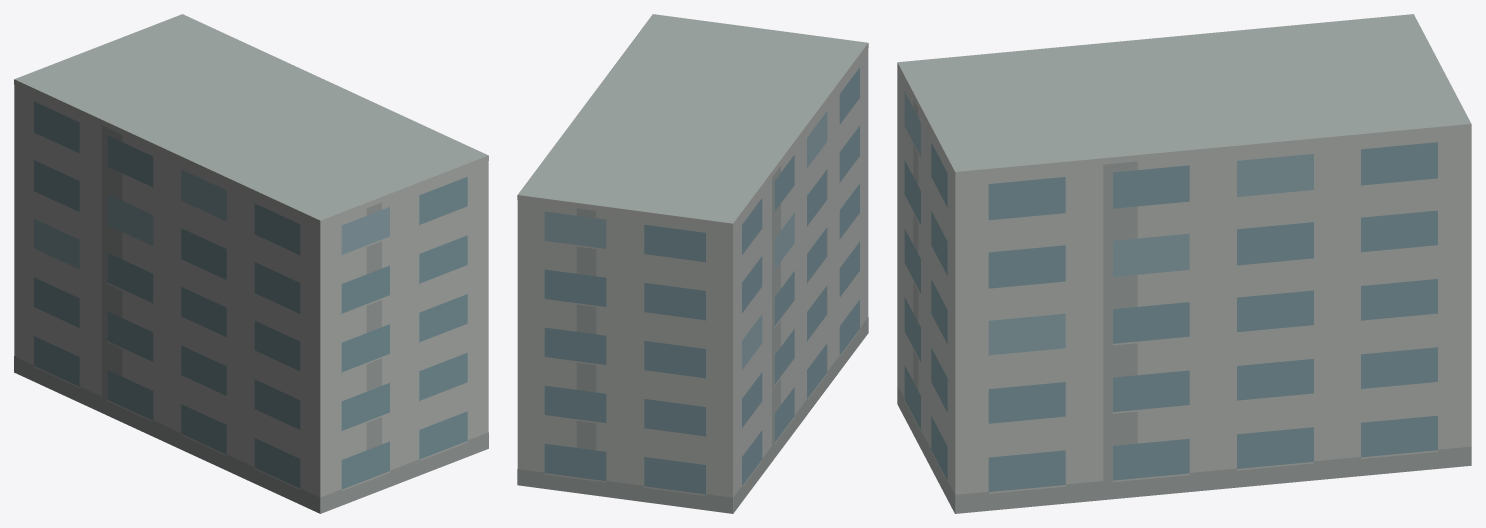
The model's file is survey-upis-32991083.glb.
The picture shows the model from 3 angles, left to right: view 1: azimuth 30°, elevation 25°; view 2: azimuth 150°, elevation 25°; view 3: azimuth 270°, elevation 25°; orthographic projection. The views are drawn at different scales.
Visible parts, largest first — view 1: survey-upis-32991083.tmp; view 2: survey-upis-32991083.tmp; view 3: survey-upis-32991083.tmp.
Part boxes in pixels (x1,y1,x2,y2): survey-upis-32991083.tmp: (14, 14, 488, 513); survey-upis-32991083.tmp: (517, 14, 868, 513); survey-upis-32991083.tmp: (897, 14, 1471, 513).
Bounding box in the file's own units: 12.8 × 12.9 × 19.64.
